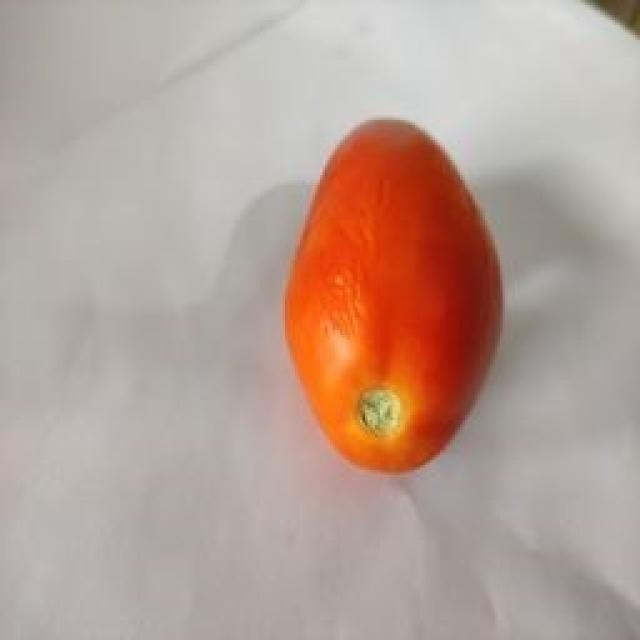Ripe: (275, 112, 511, 477)
